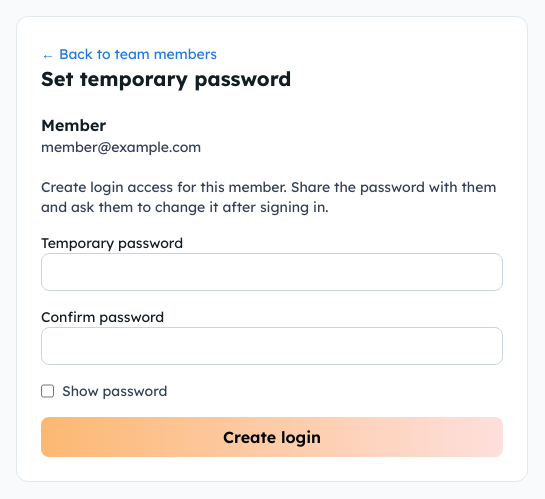
Test: creates a member login and clears password fields on success
Type "Strong-password-27!" into the password field labelled "Temporary password".
click(272, 272); type("Strong-password-27!")  # box [41,253,503,291]
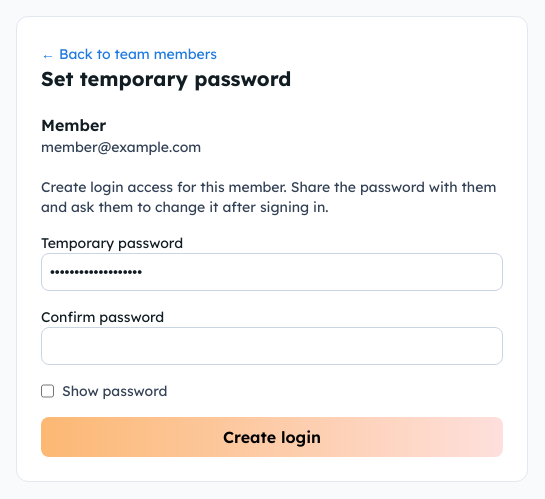
Type "Strong-password-27!" into the password field labelled "Confirm password".
click(272, 346); type("Strong-password-27!")  # box [41,327,503,365]
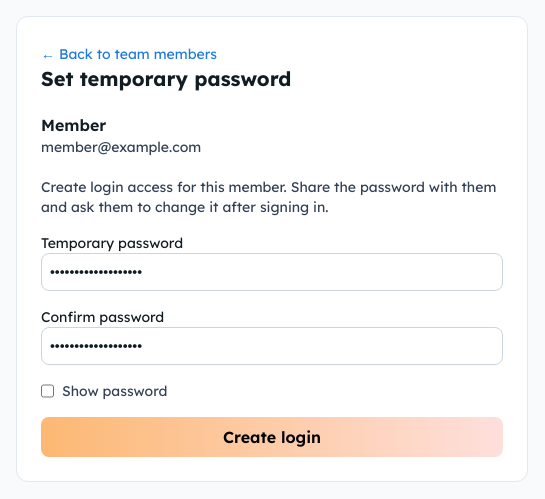
Click the button "Create login".
click(272, 437)  # box [41,417,503,457]
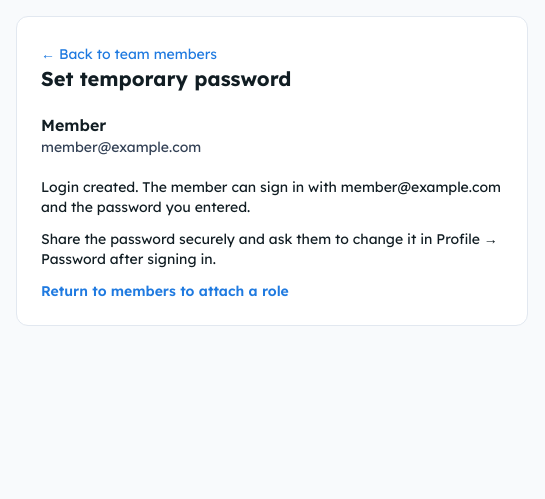
Check: the text "Login created" is shown, box [41,178,341,196]
